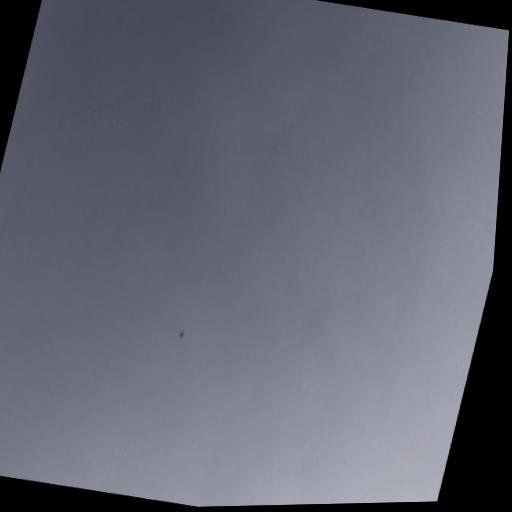drones: (176, 327, 186, 341)
